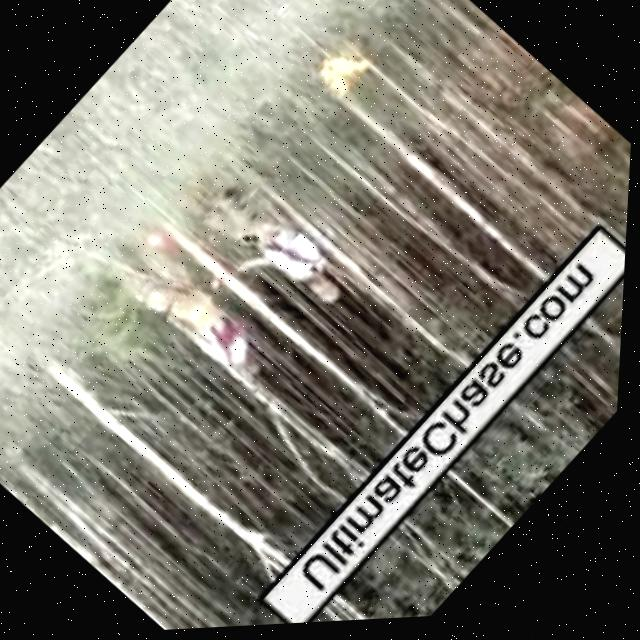Fire: (309, 37, 379, 107)
